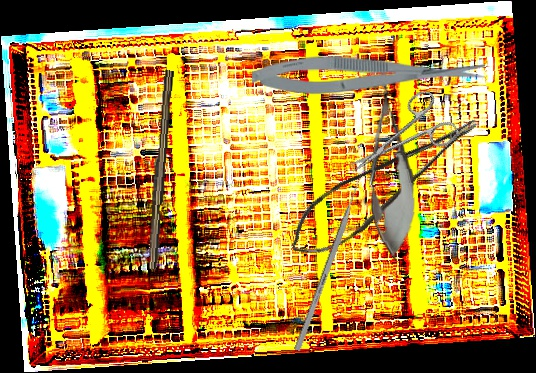Iris Scissors: (335, 85, 462, 192)
Micro Scissor: (273, 111, 499, 269), (359, 61, 421, 264), (252, 56, 485, 95)
Pusher: (293, 171, 366, 352)
Scalpel Handle: (145, 69, 174, 270)
